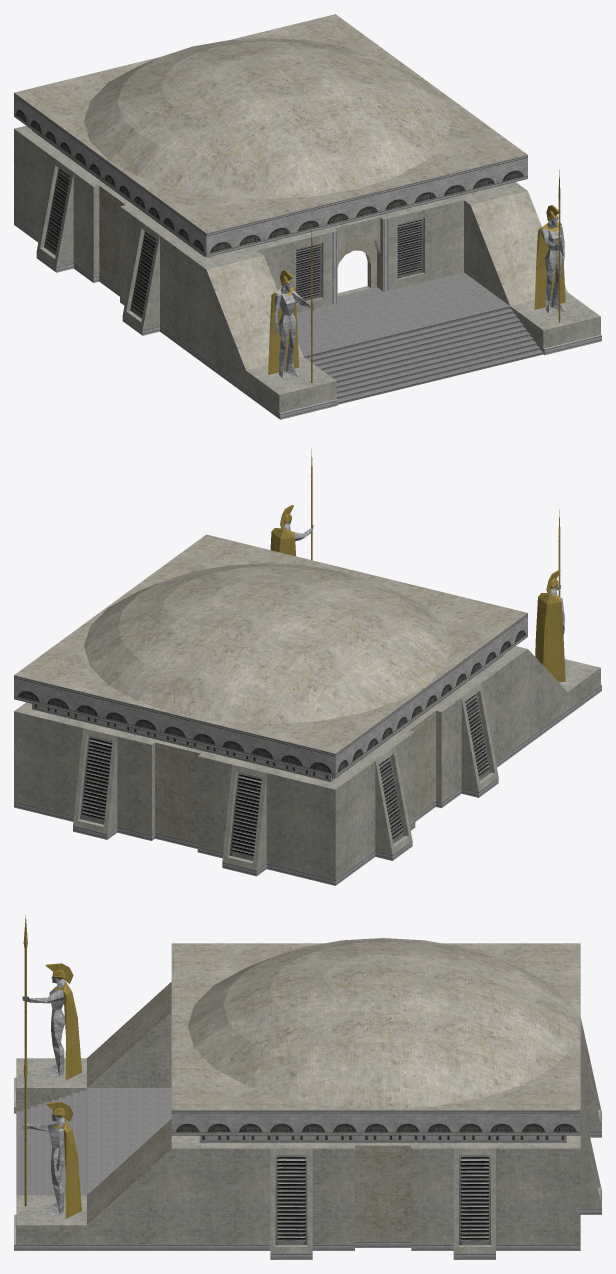
Rendered from mun_all_guild_combat_s01_r0_exterior_mesh_exterior_l0.fbx.
3 renders of one model, top to bottom at view 1: azimuth 30°, elevation 25°; view 2: azimuth 150°, elevation 25°; view 3: azimuth 270°, elevation 25°, orthographic. The views are drawn at different scales.
Parts seen in each view (by area): view 1: mesh_node; view 2: mesh_node; view 3: mesh_node.
Part boxes in pixels (x1,y1,x2,y2): mesh_node: [14, 14, 601, 419]; mesh_node: [14, 449, 601, 885]; mesh_node: [14, 915, 601, 1259].
Bounding box in the file's own units: 38.75 × 18.75 × 52.08.
